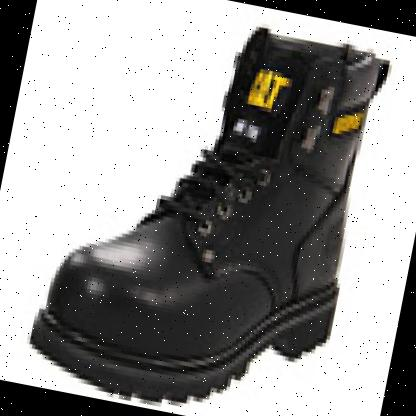bota: (25, 0, 400, 416)
